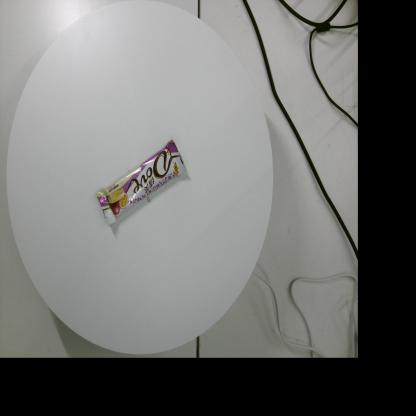Chocolate: (95, 140, 186, 226)
